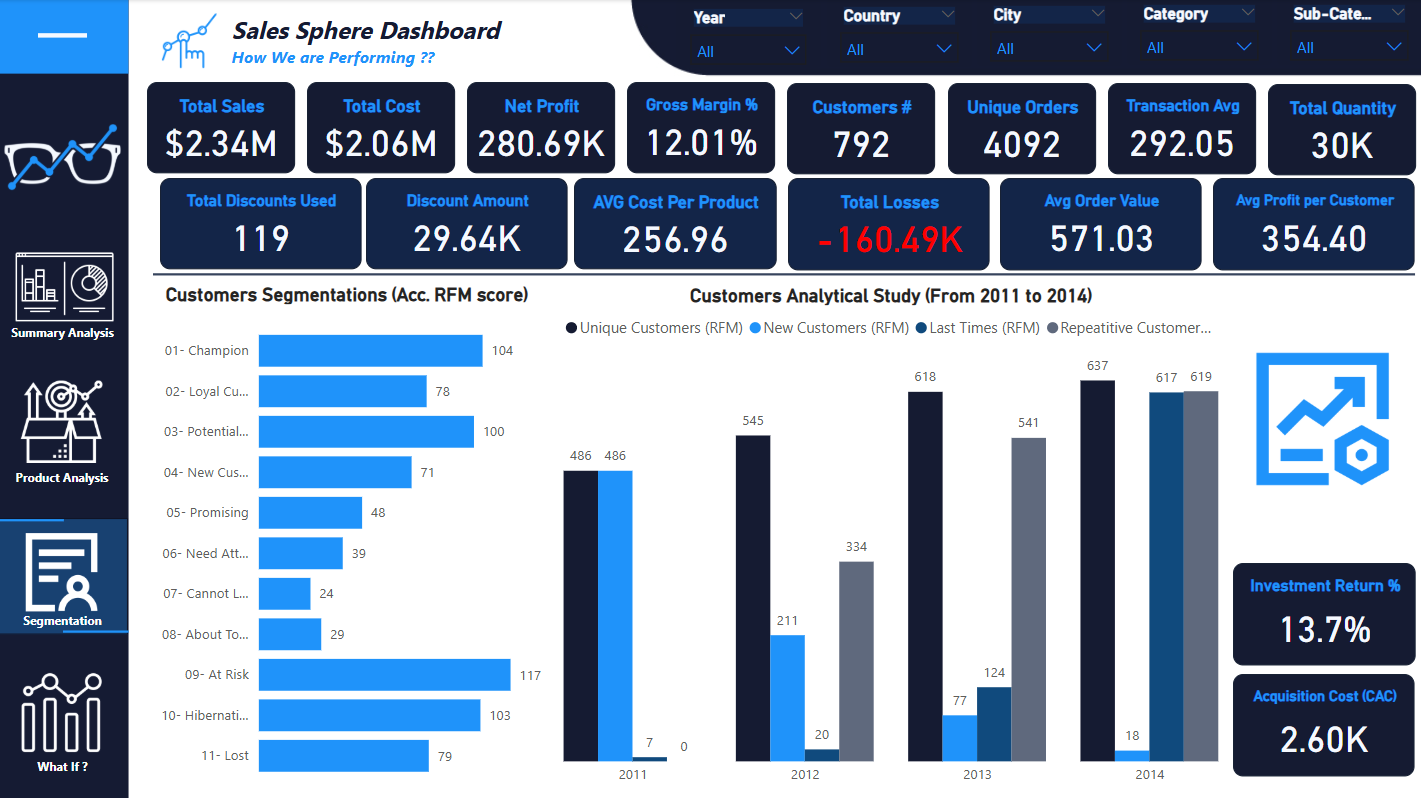

The page's visual inventory and layout, read from the dashboard file:
{"tool":"powerbi","page":{"name":"Summary Analysis","canvas":[1280,720],"ordinal":0},"visuals":[{"type":"shape","box":[0,217,118,95],"z":0},{"type":"textbox","box":[205.7,8,309.1,61.4],"z":1000},{"type":"card","title":"Total Sales","fields":{"Values":["_Key Measures.01. Total Sales"]},"box":[134.5,74.9,132.9,81.7],"z":2000},{"type":"card","title":"Total Cost","fields":{"Values":["_Key Measures.02. Total Cost"]},"box":[278.3,74.6,132.9,81.7],"z":3000},{"type":"card","title":"Net Profit","fields":{"Values":["_Key Measures.03. Net Profit"]},"box":[422.1,74.4,132.9,81.7],"z":4000},{"type":"card","title":"Gross Margin %","fields":{"Values":["_Key Measures.04.Gross margin (%)"]},"box":[565.9,74.1,132.9,81.7],"z":5000},{"type":"card","title":"Customers #","fields":{"Values":["_Key Measures.05. Customers#"]},"box":[709.6,75.5,132.9,81.7],"z":6000},{"type":"card","title":"Unique Orders","fields":{"Values":["_Key Measures.06. Unique Orders"]},"box":[853.4,75.7,132.9,81.7],"z":7000},{"type":"card","title":"Transaction Avg","fields":{"Values":["_Key Measures.07. Transictions Avg"]},"box":[997.2,75.2,132.9,81.7],"z":8000},{"type":"card","title":"Total Quantity","fields":{"Values":["_Key Measures.08. Total Quantites"]},"box":[1141,76,132.9,81.7],"z":9000},{"type":"card","title":"AVG Cost Per Product","fields":{"Values":["_Key Measures.AVG Cost Per Product"]},"box":[517.7,160.7,181.7,82.2],"z":10000},{"type":"card","title":"Total Discounts Used","fields":{"Values":["_Key Measures.Total Discounts Used"]},"box":[146.1,160.7,180.8,82.2],"z":11000},{"type":"card","title":"Discount Amount","fields":{"Values":["_Key Measures.Discount Amount"]},"box":[331.4,160.7,180.8,82.2],"z":12000},{"type":"card","title":"Total Losses","fields":{"Values":["_Key Measures.Total Losses"]},"box":[709.9,160.6,181.3,82.6],"z":13000},{"type":"card","title":"Avg Order Value","fields":{"Values":["_Key Measures.Avg Order Value"]},"box":[900.6,160.6,181.3,82.6],"z":14000},{"type":"card","title":"Avg Profit per Customer","fields":{"Values":["_Key Measures.Avg Profit per Customer"]},"box":[1091.3,160.6,181.3,82.6],"z":15000},{"type":"shape","box":[140,240,1133,15],"z":16000},{"type":"lineStackedColumnComboChart","title":"Sales and Profit by Year","fields":{"Category":["Dim - Calendar._Dim Calendar Hierarchy.Year","Dim - Calendar._Dim Calendar Hierarchy.Quarter","Dim - Calendar._Dim Calendar Hierarchy.Month No.","Dim - Calendar._Dim Calendar Hierarchy.Month Name","Dim - Calendar._Dim Calendar Hierarchy.Week No. Monthly"],"Y":["Sum(Fact - Sales.Total Sales)"],"Y2":["Sum(Fact - Sales.Profit)"]},"box":[134.1,253.3,412.9,236.5],"z":17000},{"type":"donutChart","title":"Sales By Category","fields":{"Y":["Sum(Fact - Sales.Total Cost)"],"Category":["Dim - Category.Category"]},"box":[552.9,253.6,352.1,236.4],"z":18000},{"type":"funnel","title":"Top 5 Countries By Sales","fields":{"Y":["Sum(Fact - Sales.Total Sales)"],"Category":["Dim - Country.Country"]},"box":[912.1,253.6,361.4,236.4],"z":19000},{"type":"clusteredBarChart","title":"Top Categories with High Loss to Sales Ratio","fields":{"Category":["Dim - Category.Category"],"Y":["_Key Measures.Loss to Sales Ratio"]},"box":[552.9,496.4,353.6,215.7],"z":20000},{"type":"clusteredColumnChart","title":"Top 5 Cities by Sales","fields":{"Y":["Sum(Fact - Sales.Total Sales)"],"Category":["Dim - City.City"]},"box":[912.1,496.4,360,215.7],"z":21000},{"type":"image","box":[139.8,8,65.9,59.1],"z":22000},{"type":"image","box":[11.4,206.8,97.7,104.5],"z":23000},{"type":"image","box":[8,337.5,100,84.1],"z":24000},{"type":"image","box":[9.1,468.2,97.7,92],"z":25000},{"type":"image","box":[17,590.9,81.8,100],"z":26000},{"type":"shape","box":[58,272,60,77],"z":27000},{"type":"shape","box":[0,182,60,77],"z":28000},{"type":"textbox","box":[0,284.5,117.5,26.8],"z":29000},{"type":"textbox","box":[0,414.4,116.5,32],"z":30000},{"type":"textbox","box":[0,674.2,117.5,32],"z":31000},{"type":"textbox","box":[0,543.3,117.5,32],"z":32000},{"type":"shape","box":[0,0,118,67],"z":33000},{"type":"shape","box":[37.1,12.4,44.3,40.2],"z":34000},{"type":"image","box":[0,67,117.5,149.5],"z":35000},{"type":"stackedAreaChart","title":"Comparison between total costs & total sales by Year","fields":{"Category":["Dim - Calendar._Dim Calendar Hierarchy.Year","Dim - Calendar._Dim Calendar Hierarchy.Quarter","Dim - Calendar._Dim Calendar Hierarchy.Month No.","Dim - Calendar._Dim Calendar Hierarchy.Month Name","Dim - Calendar._Dim Calendar Hierarchy.Week No. Monthly"],"Y":["Sum(Fact - Sales.Total Sales)","Sum(Fact - Sales.Total Cost)"]},"box":[134.1,496.5,412.9,216.5],"z":36000},{"type":"slicer","fields":{"Values":["Dim - Sub-Category.Sub-Category"]},"box":[1149.5,-1.4,129.9,60.8],"z":37000},{"type":"slicer","fields":{"Values":["Dim - Category.Category"]},"box":[1014.7,-1.4,129.9,60.8],"z":38000},{"type":"slicer","fields":{"Values":["Dim - City.City"]},"box":[879.9,-1,129.9,60.8],"z":39000},{"type":"slicer","fields":{"Values":["Dim - Country.Country"]},"box":[745.1,0,129.9,60.8],"z":40000},{"type":"slicer","fields":{"Values":["Dim - Calendar.Year"]},"box":[609.3,1.1,129.9,60.8],"z":41000},{"type":"image","box":[498.8,254.1,51.8,43.5],"z":42000}]}

Visuals, with their boxes in screenshot pixels (x1, y1, x2, y2), scaled from the page's 1280x720 canvas onto the 1421x798 screenshot:
shape: region(0, 241, 131, 346)
textbox: region(228, 9, 572, 77)
"Total Sales" card: region(149, 83, 297, 174)
"Total Cost" card: region(309, 83, 456, 173)
"Net Profit" card: region(469, 82, 616, 173)
"Gross Margin %" card: region(628, 82, 776, 173)
"Customers #" card: region(788, 84, 935, 174)
"Unique Orders" card: region(947, 84, 1095, 174)
"Transaction Avg" card: region(1107, 83, 1255, 174)
"Total Quantity" card: region(1267, 84, 1414, 175)
"AVG Cost Per Product" card: region(575, 178, 776, 269)
"Total Discounts Used" card: region(162, 178, 363, 269)
"Discount Amount" card: region(368, 178, 569, 269)
"Total Losses" card: region(788, 178, 989, 270)
"Avg Order Value" card: region(1000, 178, 1201, 270)
"Avg Profit per Customer" card: region(1212, 178, 1413, 270)
shape: region(155, 266, 1413, 283)
"Sales and Profit by Year" lineStackedColumnComboChart: region(149, 281, 607, 543)
"Sales By Category" donutChart: region(614, 281, 1005, 543)
"Top 5 Countries By Sales" funnel: region(1013, 281, 1414, 543)
"Top Categories with High Loss to Sales Ratio" clusteredBarChart: region(614, 550, 1006, 789)
"Top 5 Cities by Sales" clusteredColumnChart: region(1013, 550, 1412, 789)
image: region(155, 9, 228, 74)
image: region(13, 229, 121, 345)
image: region(9, 374, 120, 467)
image: region(10, 519, 119, 621)
image: region(19, 655, 110, 766)
shape: region(64, 301, 131, 387)
shape: region(0, 202, 67, 287)
textbox: region(0, 315, 130, 345)
textbox: region(0, 459, 129, 495)
textbox: region(0, 747, 130, 783)
textbox: region(0, 602, 130, 638)
shape: region(0, 0, 131, 74)
shape: region(41, 14, 90, 58)
image: region(0, 74, 130, 240)
"Comparison between total costs & total sales by Year" stackedAreaChart: region(149, 550, 607, 790)
slicer - Dim - Sub-Category.Sub-Category: region(1276, 0, 1420, 66)
slicer - Dim - Category.Category: region(1126, 0, 1271, 66)
slicer - Dim - City.City: region(977, 0, 1121, 66)
slicer - Dim - Country.Country: region(827, 0, 971, 67)
slicer - Dim - Calendar.Year: region(676, 1, 821, 69)
image: region(554, 282, 611, 330)
